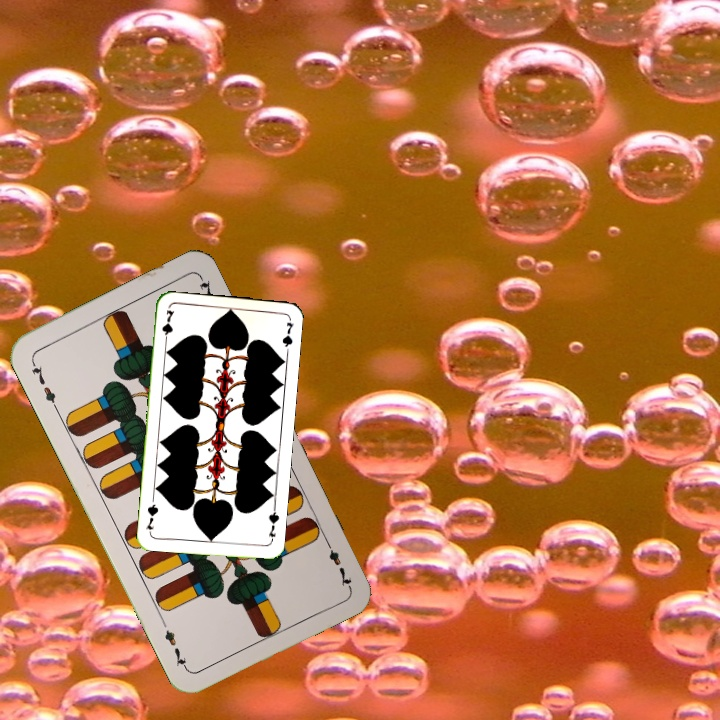E7: (320, 534, 354, 589), (27, 356, 60, 412)
G7: (158, 306, 176, 346), (264, 504, 282, 544)
